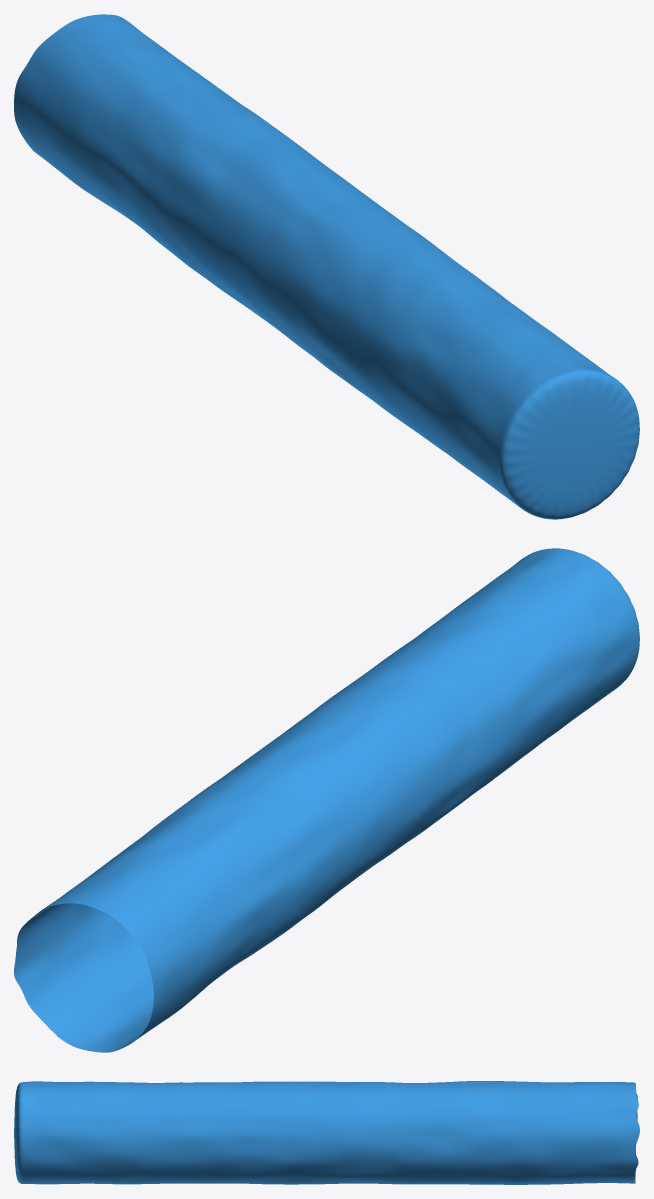
File: Pencil2.glb
3 views of the same model, one above another, from view 1: azimuth 30°, elevation 25°; view 2: azimuth 150°, elevation 25°; view 3: azimuth 270°, elevation 25° (orthographic). The views are drawn at different scales.
Visible parts, largest first — view 1: PencilBody; view 2: PencilBody; view 3: PencilBody.
Boxes of the visible parts, x1,y1,x2,y2 form: PencilBody: (14, 14, 639, 519); PencilBody: (14, 548, 639, 1052); PencilBody: (14, 1081, 639, 1184).
Size of the model in its own units: 1.58 by 1.57 by 9.54.
